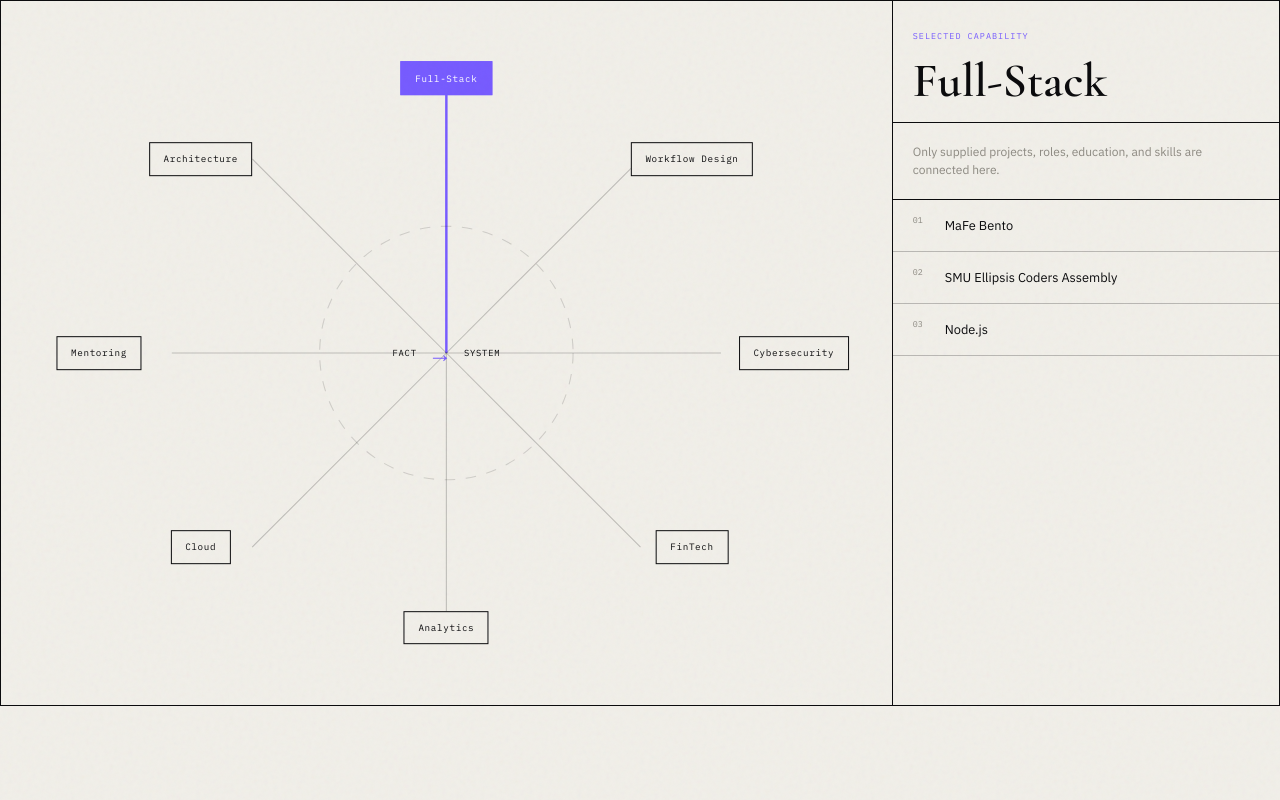
Test: risk, evidence, and timeline chapters › connects a capability only to supplied evidence and never percentages
Click the button "Cybersecurity". click: (794, 353)
box: [739, 336, 849, 370]
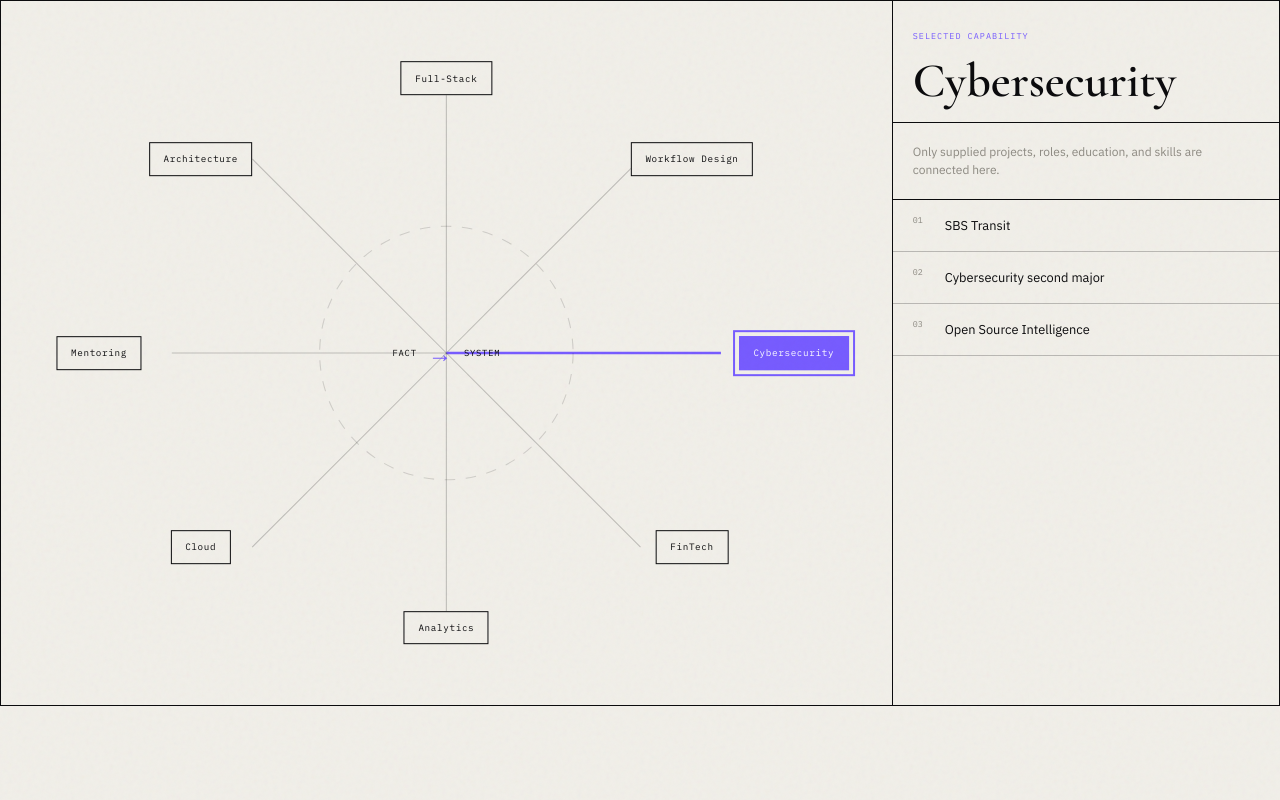
Expected: the list item "SBS Transit" is shown, [945, 217, 1010, 234]
Expected: the list item "Cybersecurity second major" is shown, [945, 269, 1104, 286]
